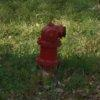a fire hydrant: (38, 21, 68, 68)
